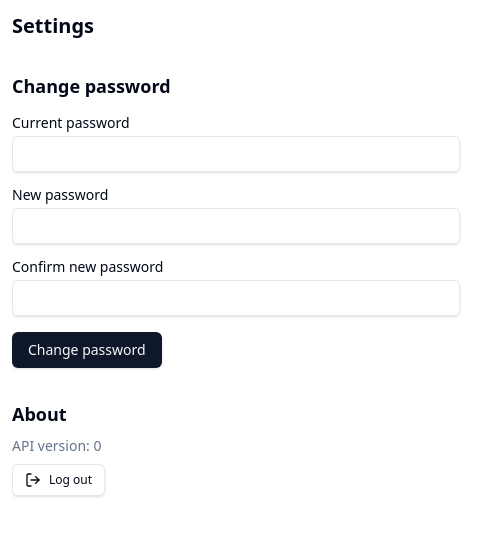
Test: SettingsPage › reports a wrong current password on that field
Type "oldsecret" into the password field labelled "Current password" at (236, 154), box top-left (12, 136), bottom-right (460, 172)
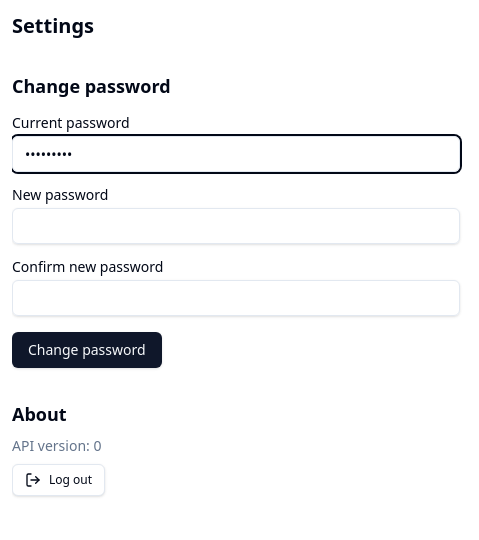
Type "newsecret1" into the password field labelled "New password" at (236, 226), box top-left (12, 208), bottom-right (460, 244)
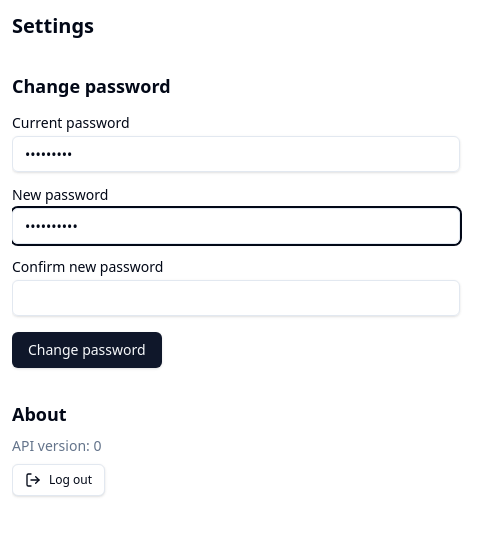
Type "newsecret1" into the password field labelled "Confirm new password" at (236, 298), box top-left (12, 280), bottom-right (460, 316)
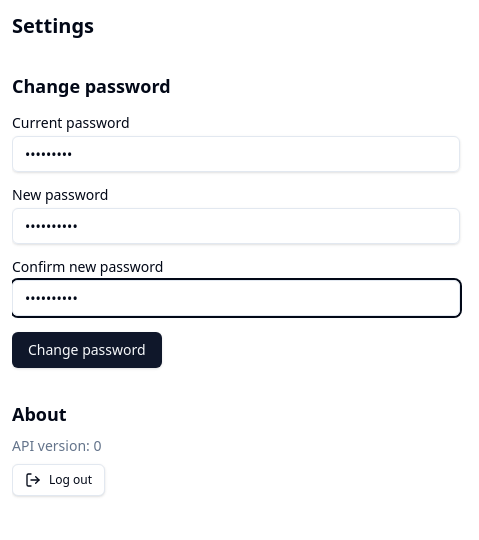
Click the button "Change password" at (87, 350), box top-left (12, 332), bottom-right (162, 368)
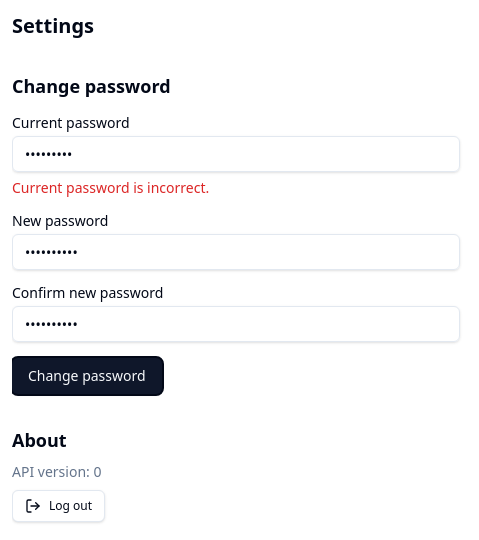
Check: the text "Current password is incorrect." is shown, box top-left (12, 178), bottom-right (209, 197)
